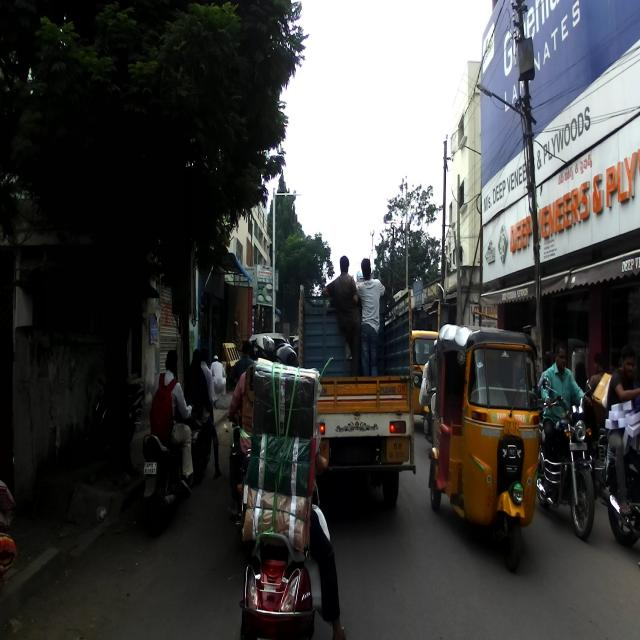autorickshaw: (428, 323, 542, 571)
motorcycle: (536, 377, 596, 540), (141, 401, 195, 539)
scooter: (237, 508, 324, 640)
truck: (296, 283, 415, 503)
